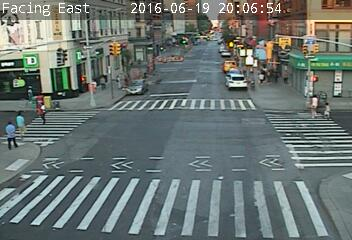neg: (22, 159, 64, 215), (176, 115, 207, 156), (145, 99, 172, 134), (269, 120, 295, 156), (222, 103, 246, 135), (177, 49, 195, 74), (69, 88, 86, 111), (134, 192, 150, 214)
pos: (1, 120, 24, 152), (15, 110, 38, 140), (304, 93, 324, 120), (33, 98, 50, 122), (94, 71, 109, 92), (320, 101, 335, 120)
